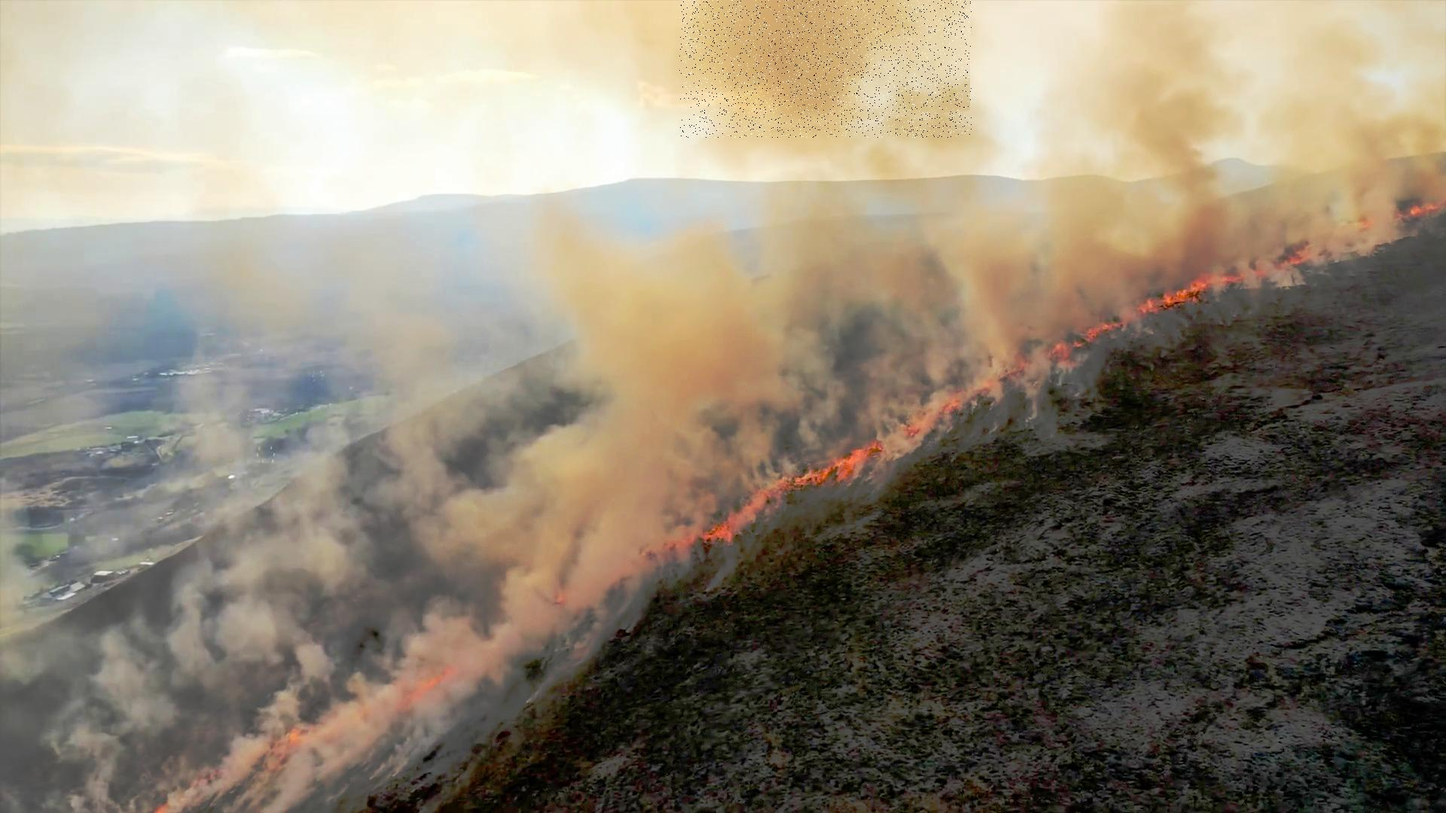fire: (680, 0, 972, 138), (840, 441, 887, 489)
